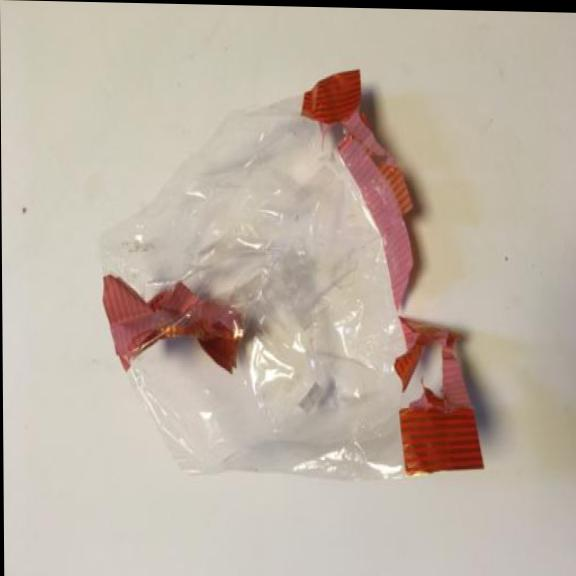Kertas: (94, 51, 493, 491)
